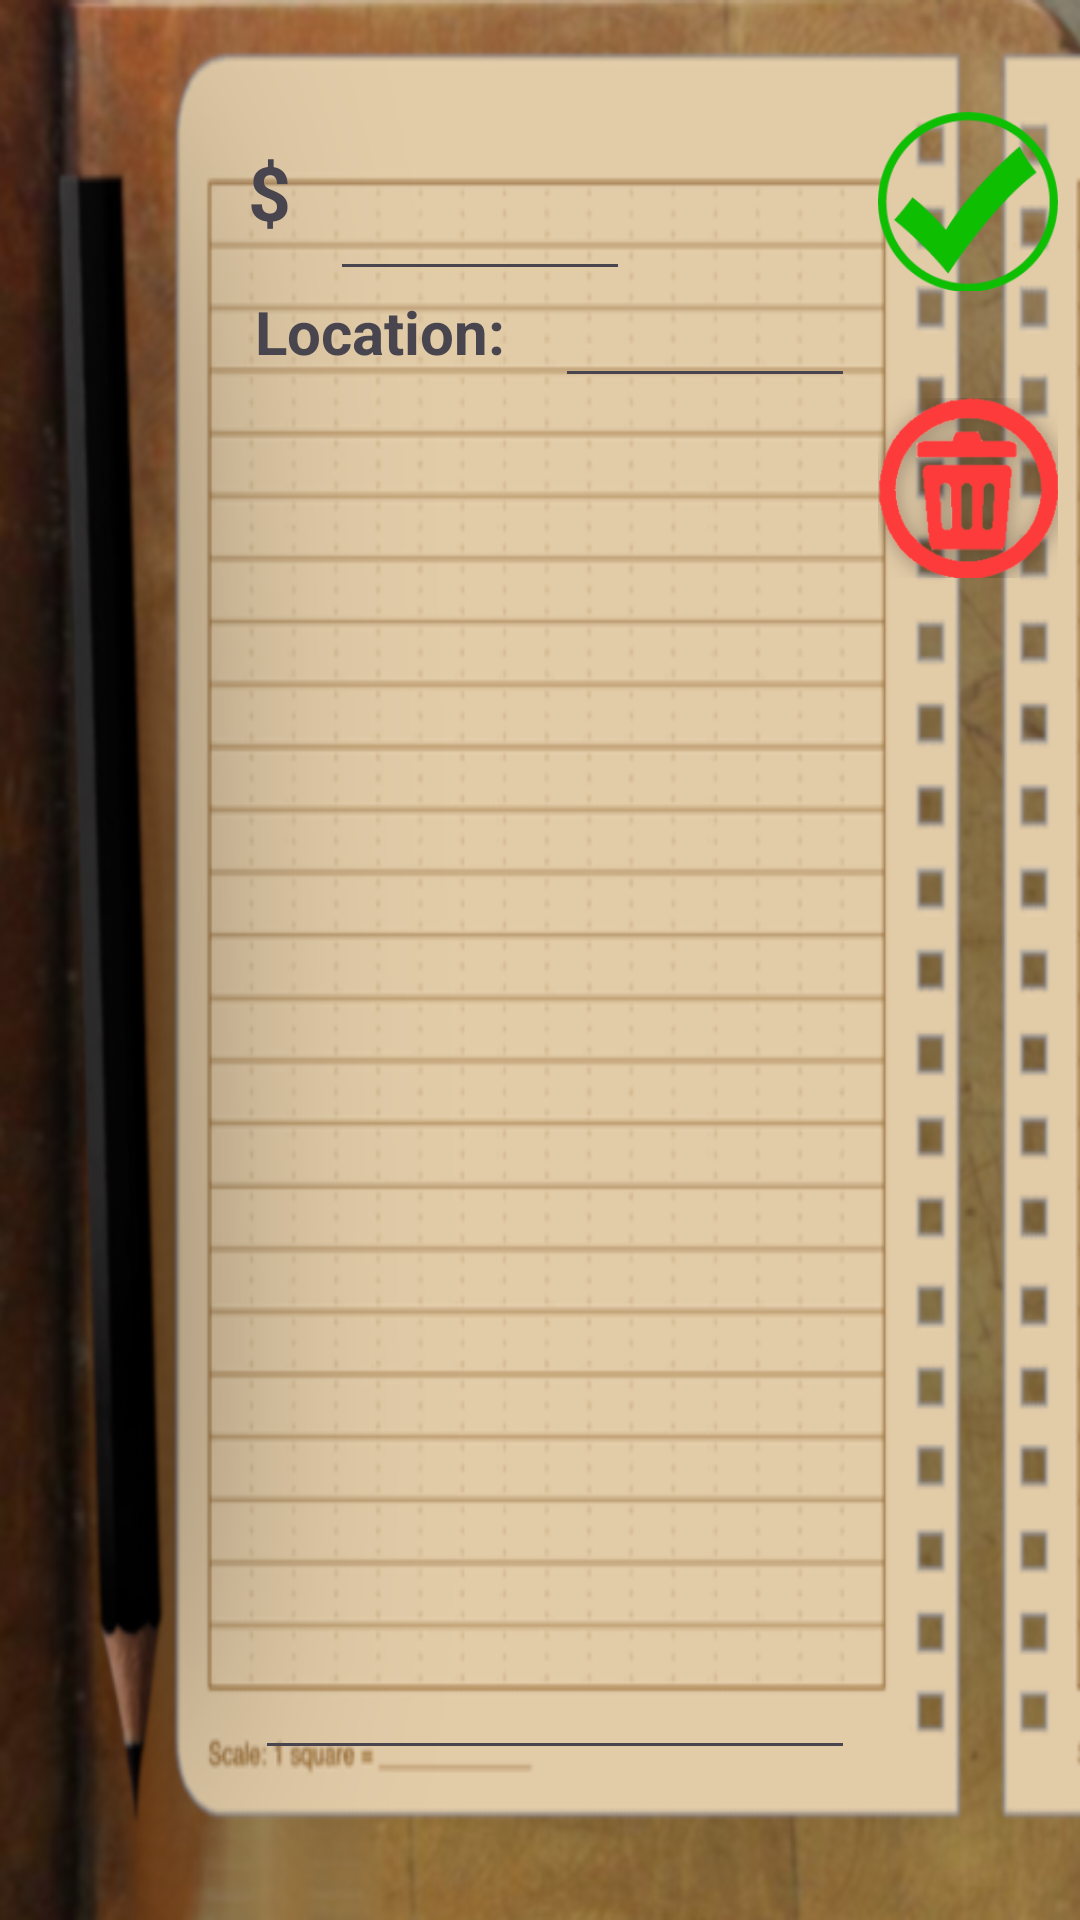

Locate icon controls on the screen. Image size 1080w x 1920h, boxes as {"x1": x1, "y1": y1, "x2": x2, "y2": y2}.
trash: {"x1": 878, "y1": 398, "x2": 1058, "y2": 578}
